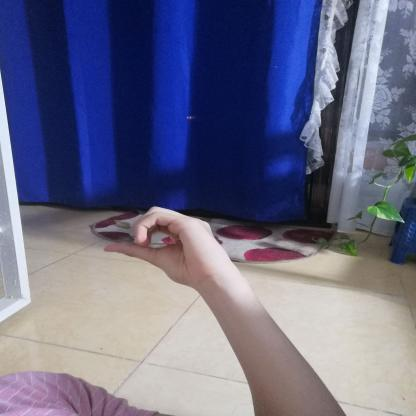WAW: (89, 198, 241, 296)
